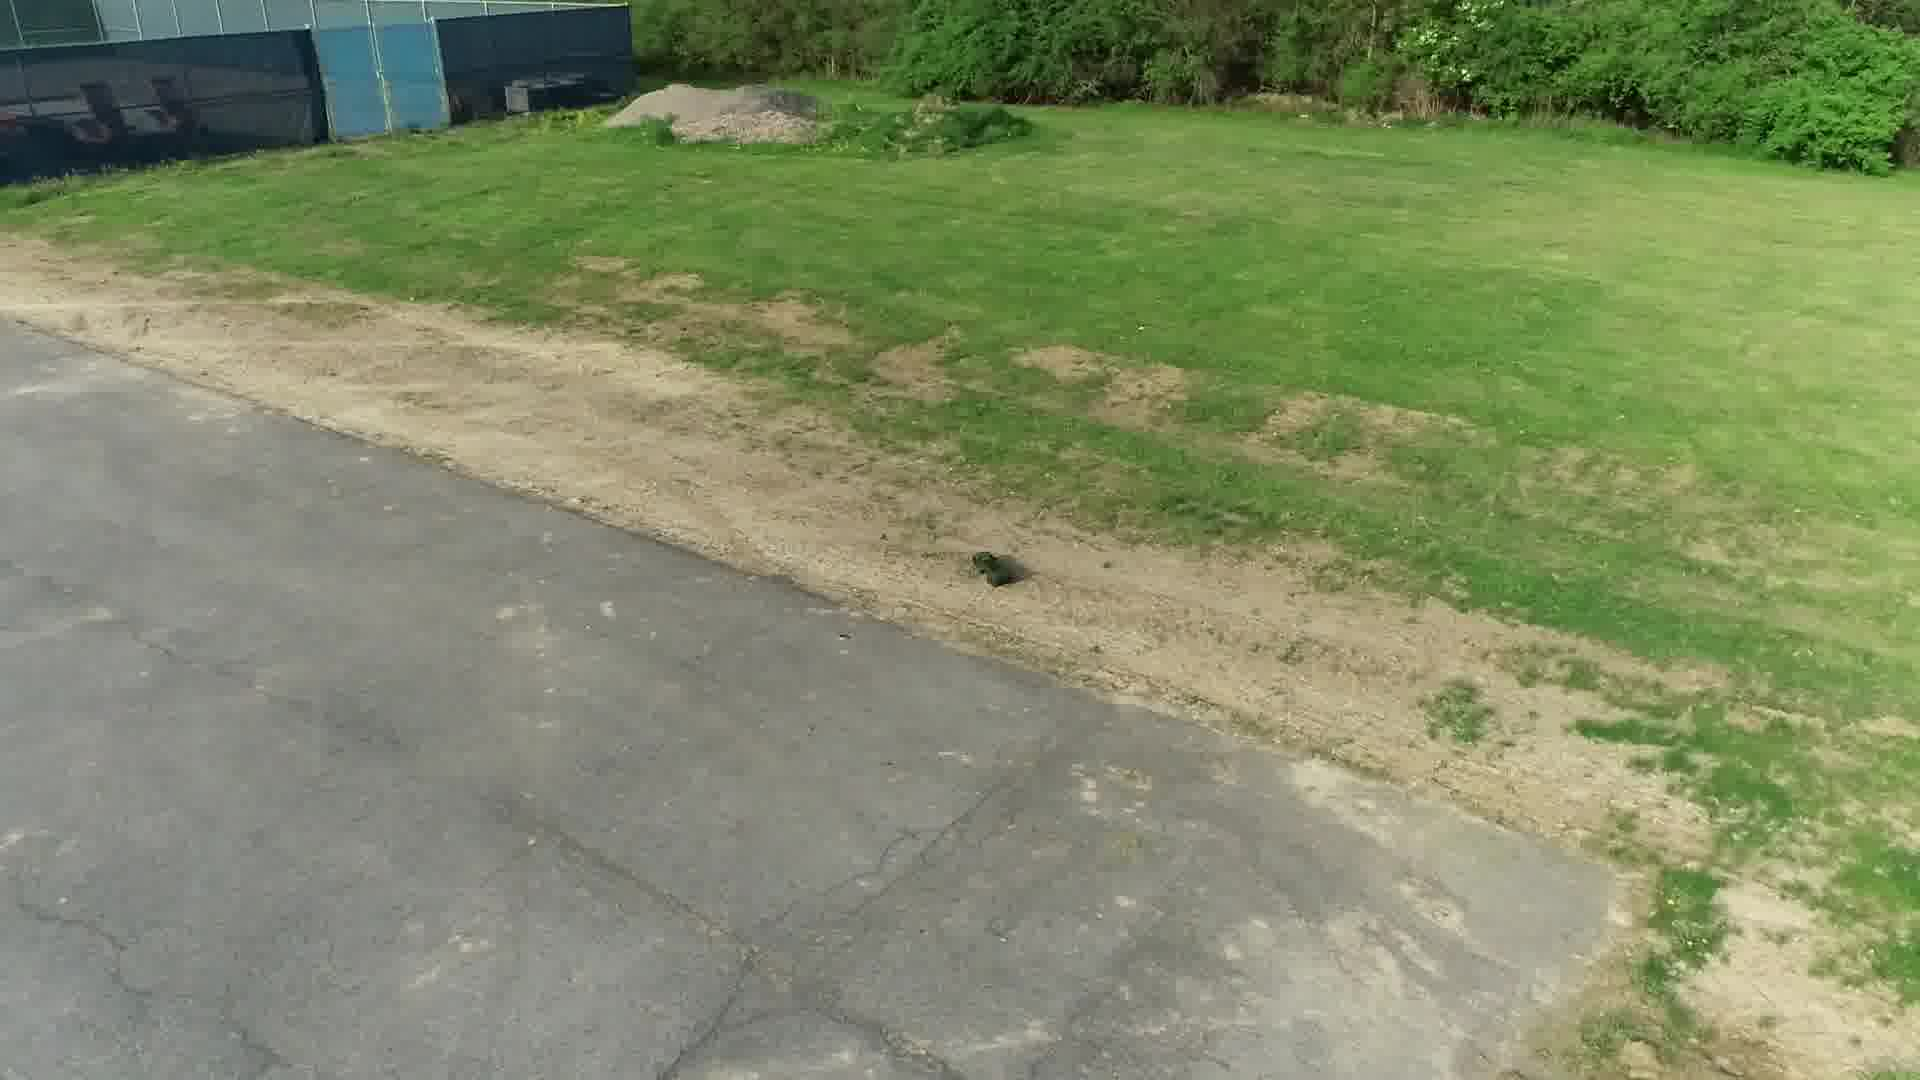transporter9: (971, 550, 1019, 587)
